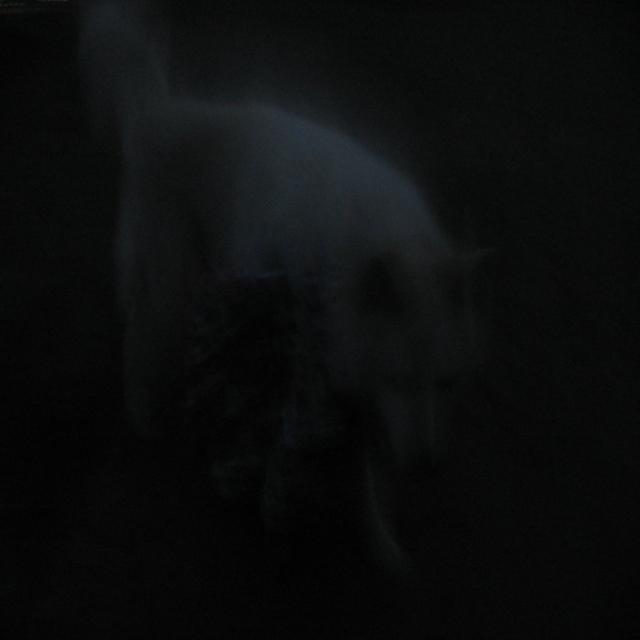Dog: (73, 3, 483, 432)
